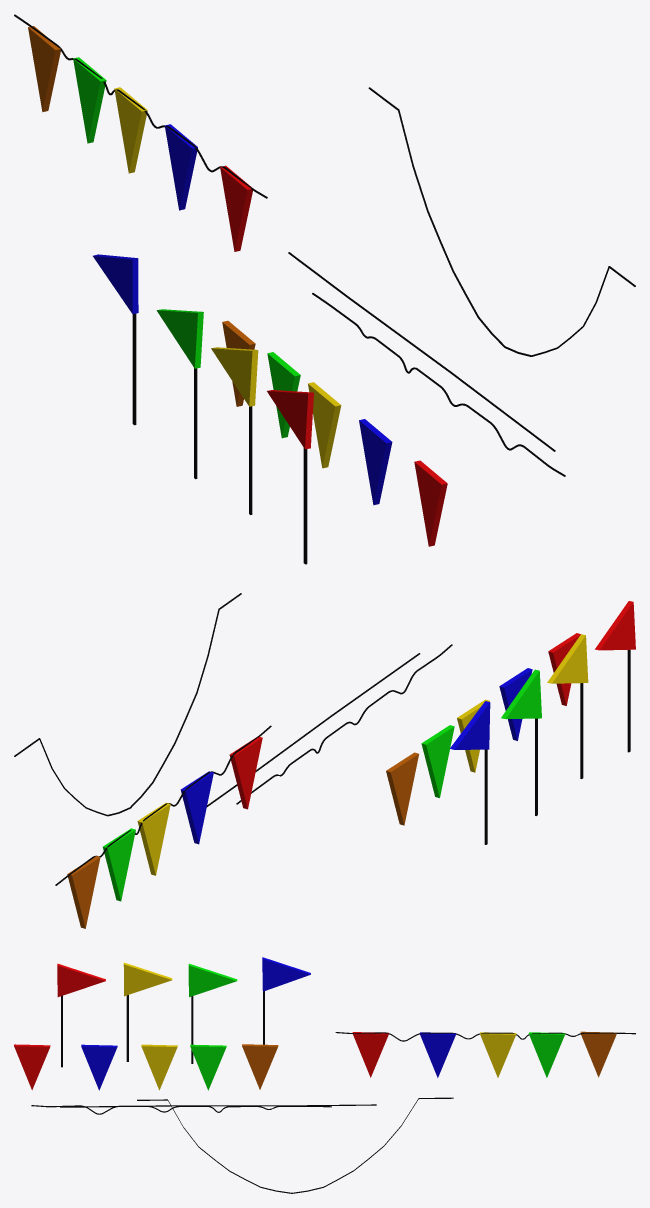
File: flags.fbx
The picture shows the model from 3 angles, top to bottom: view 1: azimuth 30°, elevation 25°; view 2: azimuth 150°, elevation 25°; view 3: azimuth 270°, elevation 25°; orthographic projection. The views are drawn at different scales.
Parts seen in each view (by area): view 1: Icosphere.002, Cube.004, Cube.001, Cube.002, Cube.003, Icosphere.006, Icosphere.005, Icosphere.004, Cube.005, Icosphere.003, Icosphere.000, Cube; view 2: Icosphere.002, Cube.004, Cube.003, Cube.001, Cube.002, Icosphere.003, Icosphere.001, Cube.005, Icosphere.005, Icosphere.006, Icosphere.000, Icosphere.004 (+1 smaller); view 3: Icosphere.002, Cube.003, Cube.002, Cube.004, Cube.001, Icosphere.001, Icosphere.003, Icosphere.006, Icosphere.004, Icosphere.005, Cube, Cube.005 (+1 smaller).
Boxes of the visible parts, x1,y1,x2,y2 form: Icosphere.002: [14, 14, 267, 251]; Cube.004: [267, 390, 313, 564]; Cube.001: [93, 254, 138, 425]; Cube.002: [156, 309, 203, 479]; Cube.003: [211, 347, 258, 514]; Icosphere.006: [414, 460, 447, 546]; Icosphere.005: [359, 419, 392, 505]; Icosphere.004: [308, 382, 341, 468]; Cube.005: [368, 87, 635, 356]; Icosphere.003: [267, 352, 300, 438]; Icosphere.000: [312, 293, 565, 476]; Cube: [288, 252, 555, 451]; Icosphere.002: [55, 725, 271, 928]; Cube.004: [595, 601, 635, 752]; Cube.003: [547, 634, 588, 778]; Cube.001: [450, 701, 490, 844]; Cube.002: [501, 669, 541, 815]; Icosphere.003: [421, 725, 454, 797]; Icosphere.001: [386, 752, 418, 825]; Cube.005: [14, 593, 241, 816]; Icosphere.005: [499, 668, 532, 740]; Icosphere.006: [548, 633, 580, 705]; Icosphere.000: [236, 644, 452, 804]; Icosphere.004: [457, 699, 489, 772]; Icosphere.002: [335, 1031, 635, 1077]; Cube.003: [123, 962, 172, 1061]; Cube.002: [188, 963, 237, 1063]; Cube.004: [57, 963, 105, 1067]; Cube.001: [262, 957, 310, 1044]; Icosphere.001: [242, 1044, 278, 1089]; Icosphere.003: [190, 1044, 226, 1090]; Icosphere.006: [14, 1044, 50, 1090]; Icosphere.004: [141, 1044, 177, 1090]; Icosphere.005: [81, 1044, 117, 1090]; Cube: [60, 1104, 376, 1107]; Cube.005: [137, 1097, 453, 1193].
Size of the model in its own units: 465 by 227 by 1056.
